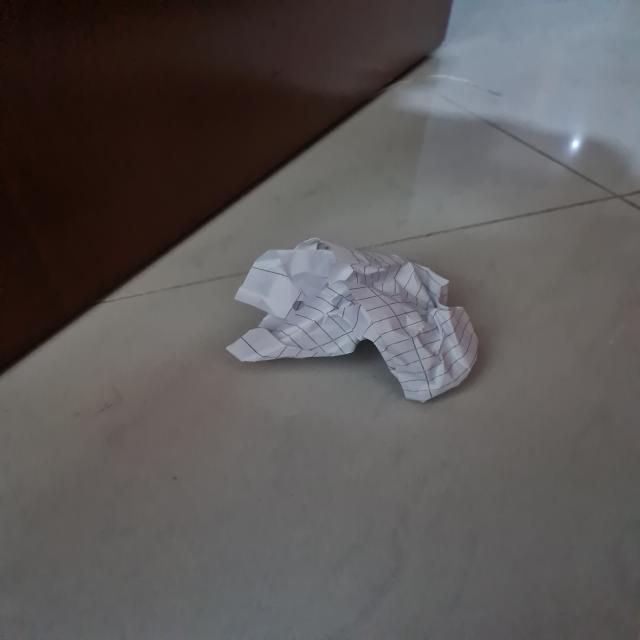Paper: (218, 244, 482, 397)
